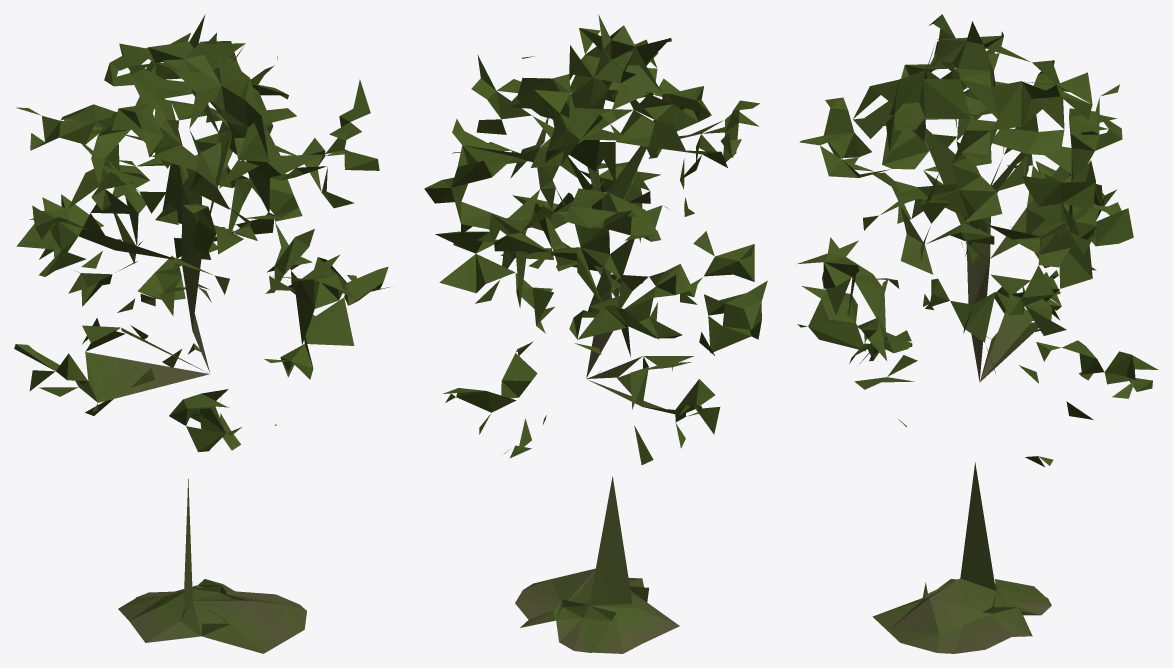
The model's file is lib_tp_tanbi.vc2.glb.
3 renders of one model, left to right at view 1: azimuth 30°, elevation 25°; view 2: azimuth 150°, elevation 25°; view 3: azimuth 270°, elevation 25°, orthographic. The views are drawn at different scales.
Visible parts, largest first — view 1: lib_tp_tanbi; view 2: lib_tp_tanbi; view 3: lib_tp_tanbi.
Boxes of the visible parts, left/top/right/bottom form: lib_tp_tanbi: left=14, top=14, right=391, bottom=653; lib_tp_tanbi: left=424, top=14, right=767, bottom=653; lib_tp_tanbi: left=796, top=14, right=1158, bottom=653.
Size of the model in its own units: 0.9532 by 1.86 by 1.03.
